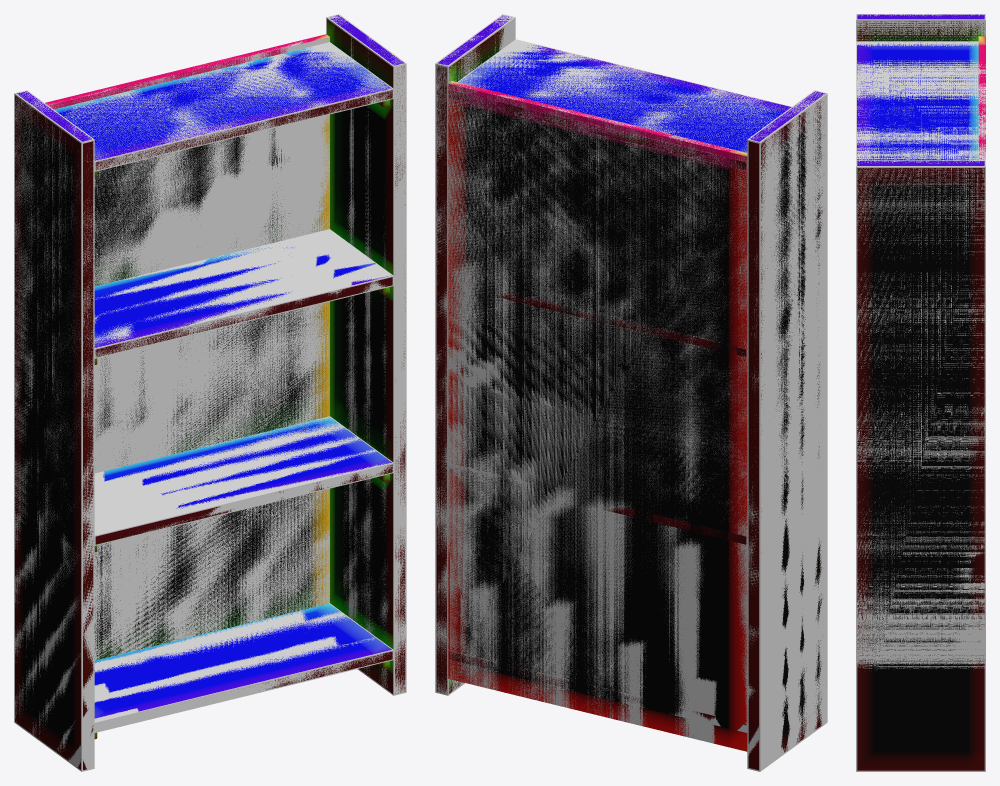
Rendered from prop_shelf_unit.fbx.
3 renders of one model, left to right at view 1: azimuth 30°, elevation 25°; view 2: azimuth 150°, elevation 25°; view 3: azimuth 270°, elevation 25°, orthographic. The views are drawn at different scales.
Parts seen in each view (by area): view 1: prop_shelf_unit, COL_2, COL_0, COL_6, COL_1, COL_4, COL_5, COL_3; view 2: prop_shelf_unit, COL_2, COL_0, COL_6, COL_1, COL_3; view 3: prop_shelf_unit, COL_1, COL_6, COL_0, COL_2.
Boxes of the visible parts, box(x1,y1,x2,y2) form: prop_shelf_unit: box(15, 15, 405, 770); COL_2: box(49, 35, 329, 660); COL_0: box(14, 90, 94, 771); COL_6: box(56, 42, 393, 171); COL_1: box(326, 14, 406, 695); COL_4: box(94, 416, 393, 545); COL_5: box(94, 229, 393, 358); COL_3: box(94, 603, 393, 732); prop_shelf_unit: box(436, 15, 826, 770); COL_2: box(448, 81, 747, 750); COL_0: box(747, 90, 827, 771); COL_6: box(448, 39, 791, 170); COL_1: box(435, 14, 515, 695); COL_3: box(448, 650, 747, 732); prop_shelf_unit: box(857, 14, 985, 770); COL_1: box(856, 160, 985, 771); COL_6: box(856, 41, 978, 160); COL_0: box(856, 14, 985, 41); COL_2: box(978, 64, 985, 160).
Size of the model in its own units: 1 by 1.85 by 0.36.
